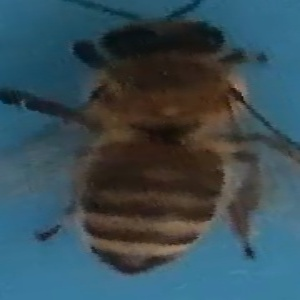bee: (10, 8, 292, 279)
